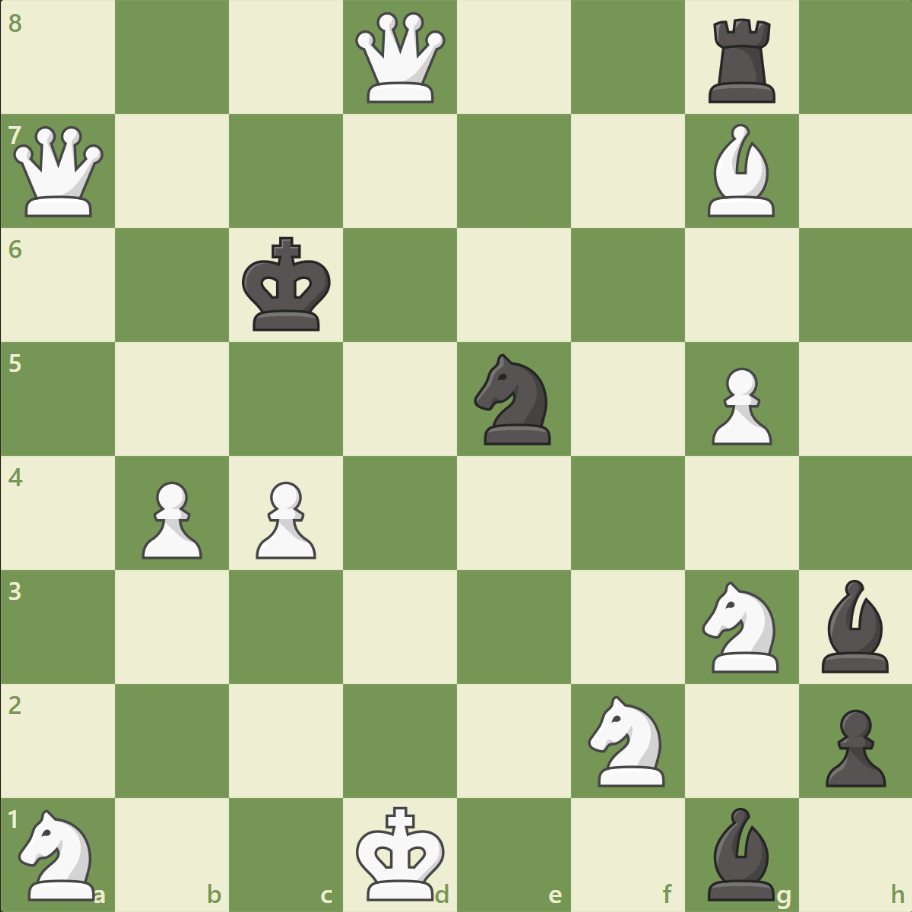B: (698, 120, 782, 222)
K: (351, 798, 451, 906)
N: (579, 688, 676, 791), (692, 575, 789, 677), (11, 802, 108, 904)
P: (701, 359, 776, 450), (133, 473, 208, 564), (247, 473, 322, 564)
Q: (10, 122, 109, 222), (351, 9, 450, 108)
b: (698, 801, 782, 904), (812, 574, 896, 676)
k: (238, 231, 338, 339)
n: (465, 348, 562, 450)
p: (815, 700, 889, 791)
r: (700, 12, 783, 109)
